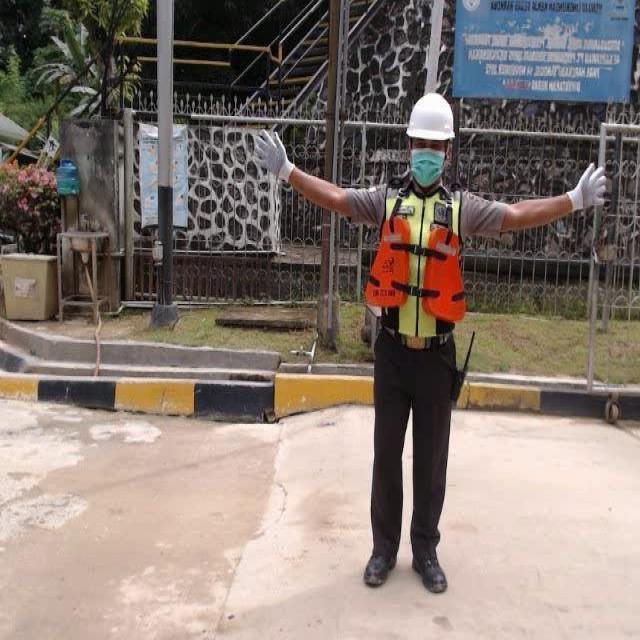helmet: (404, 91, 458, 142)
safety_vest: (365, 179, 464, 340)
